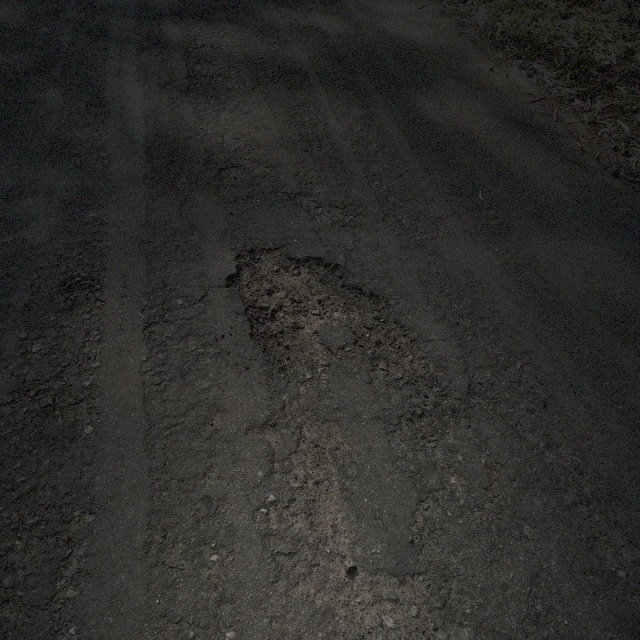pothole: (221, 242, 415, 378), (56, 270, 105, 318)
